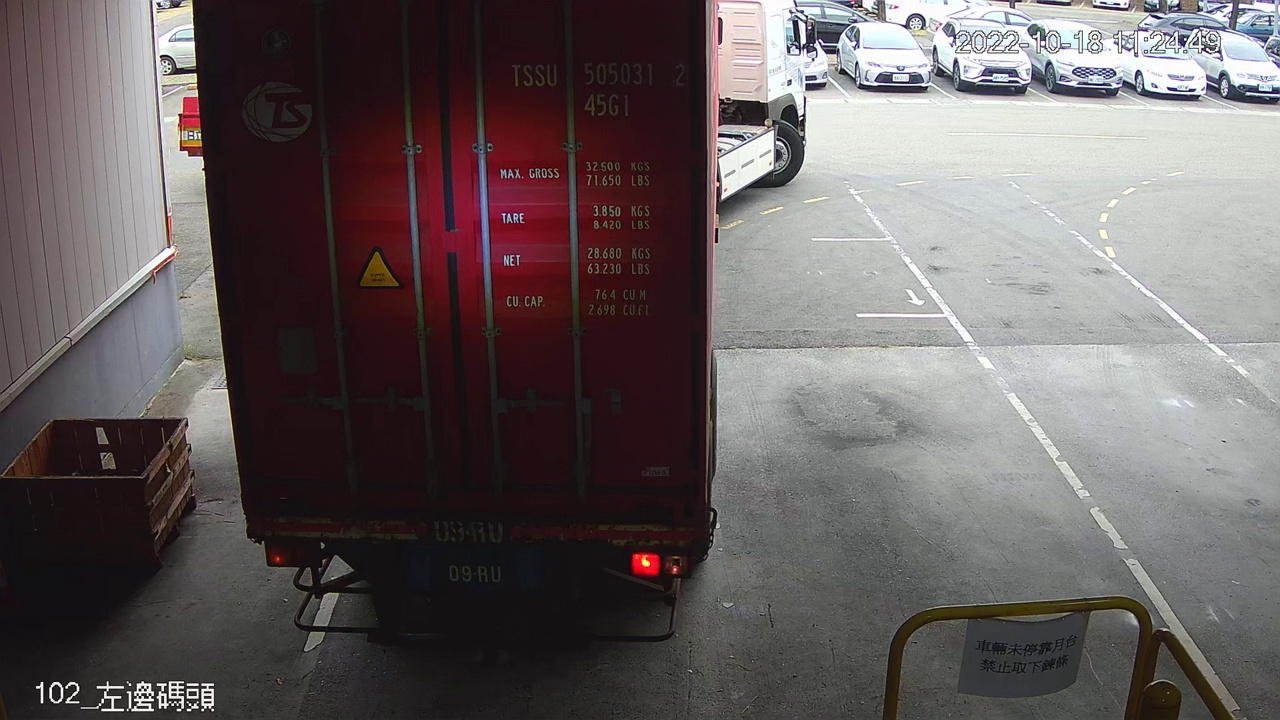container: (499, 48, 692, 125)
